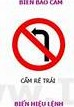No_turn_left: (11, 17, 67, 72)
